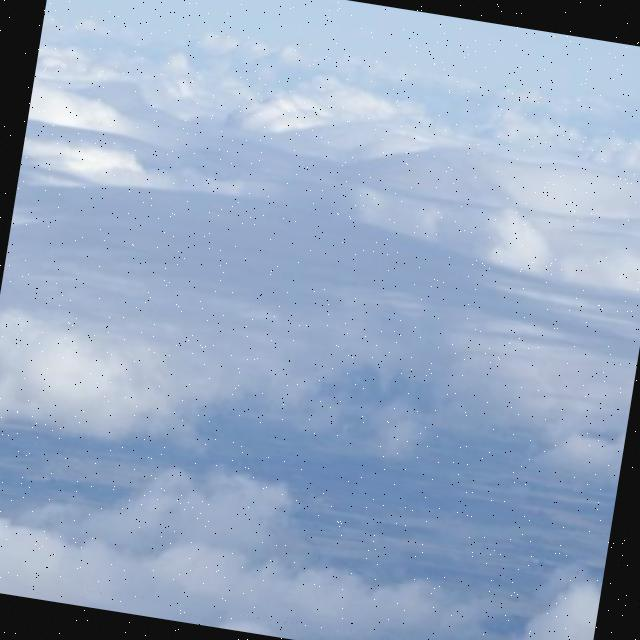Cu: (1, 1, 640, 579)
